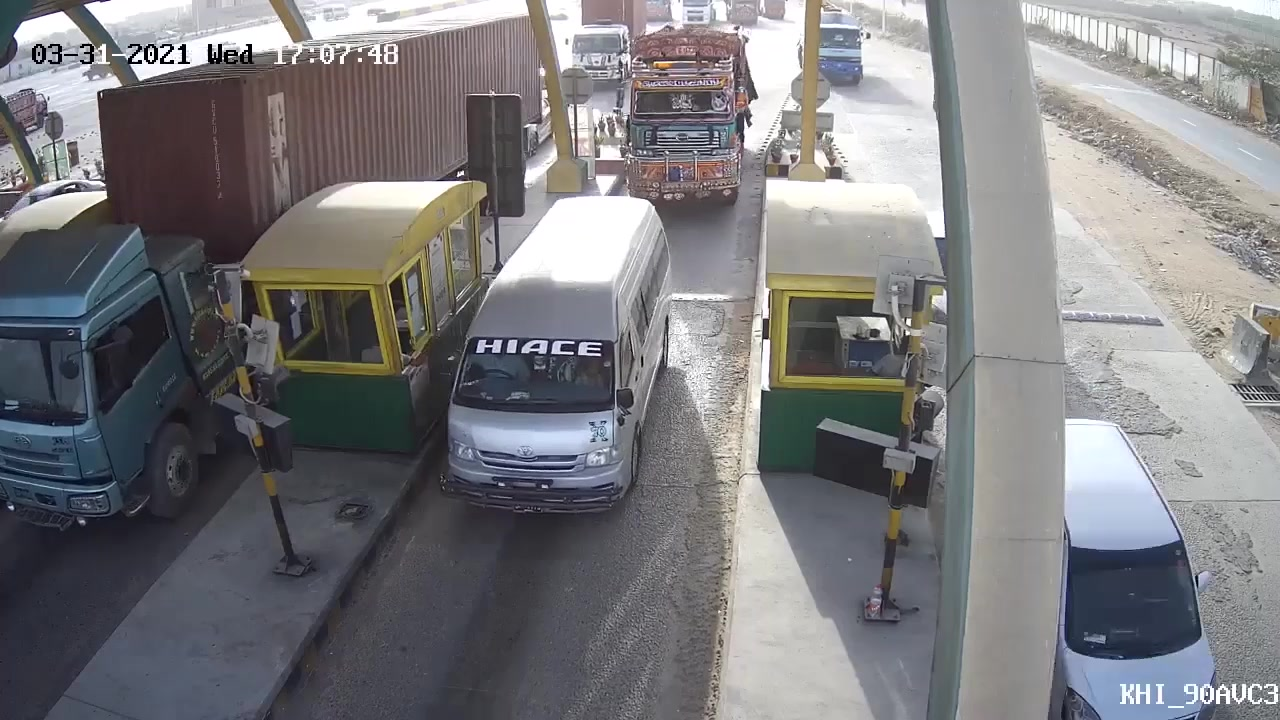F2: (399, 188, 677, 556)
F5: (598, 18, 752, 205)
